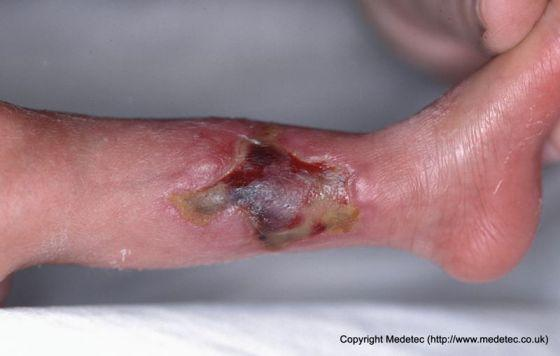NonPU: (79, 119, 400, 253)
